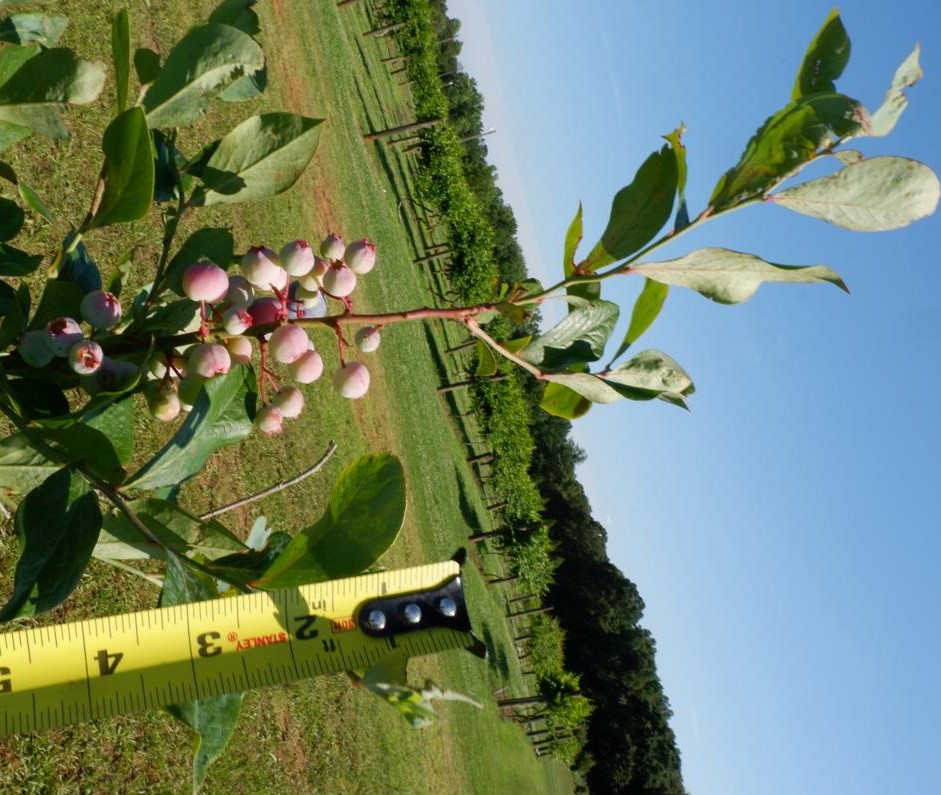Immature: (181, 256, 229, 303), (188, 343, 231, 383), (80, 290, 122, 330), (45, 317, 85, 358), (241, 245, 282, 285), (268, 323, 309, 363), (287, 280, 329, 319), (18, 330, 55, 369), (334, 361, 370, 400), (280, 239, 315, 276), (287, 349, 324, 384), (323, 259, 357, 297), (219, 275, 255, 310), (69, 340, 104, 375), (297, 255, 330, 292), (344, 237, 376, 274), (149, 389, 181, 422), (273, 385, 305, 418), (250, 267, 288, 293), (246, 297, 281, 325), (151, 349, 183, 379), (222, 306, 253, 336), (145, 379, 179, 406), (254, 406, 283, 435), (226, 338, 252, 364), (320, 233, 346, 259), (355, 327, 381, 353), (294, 286, 320, 308)
